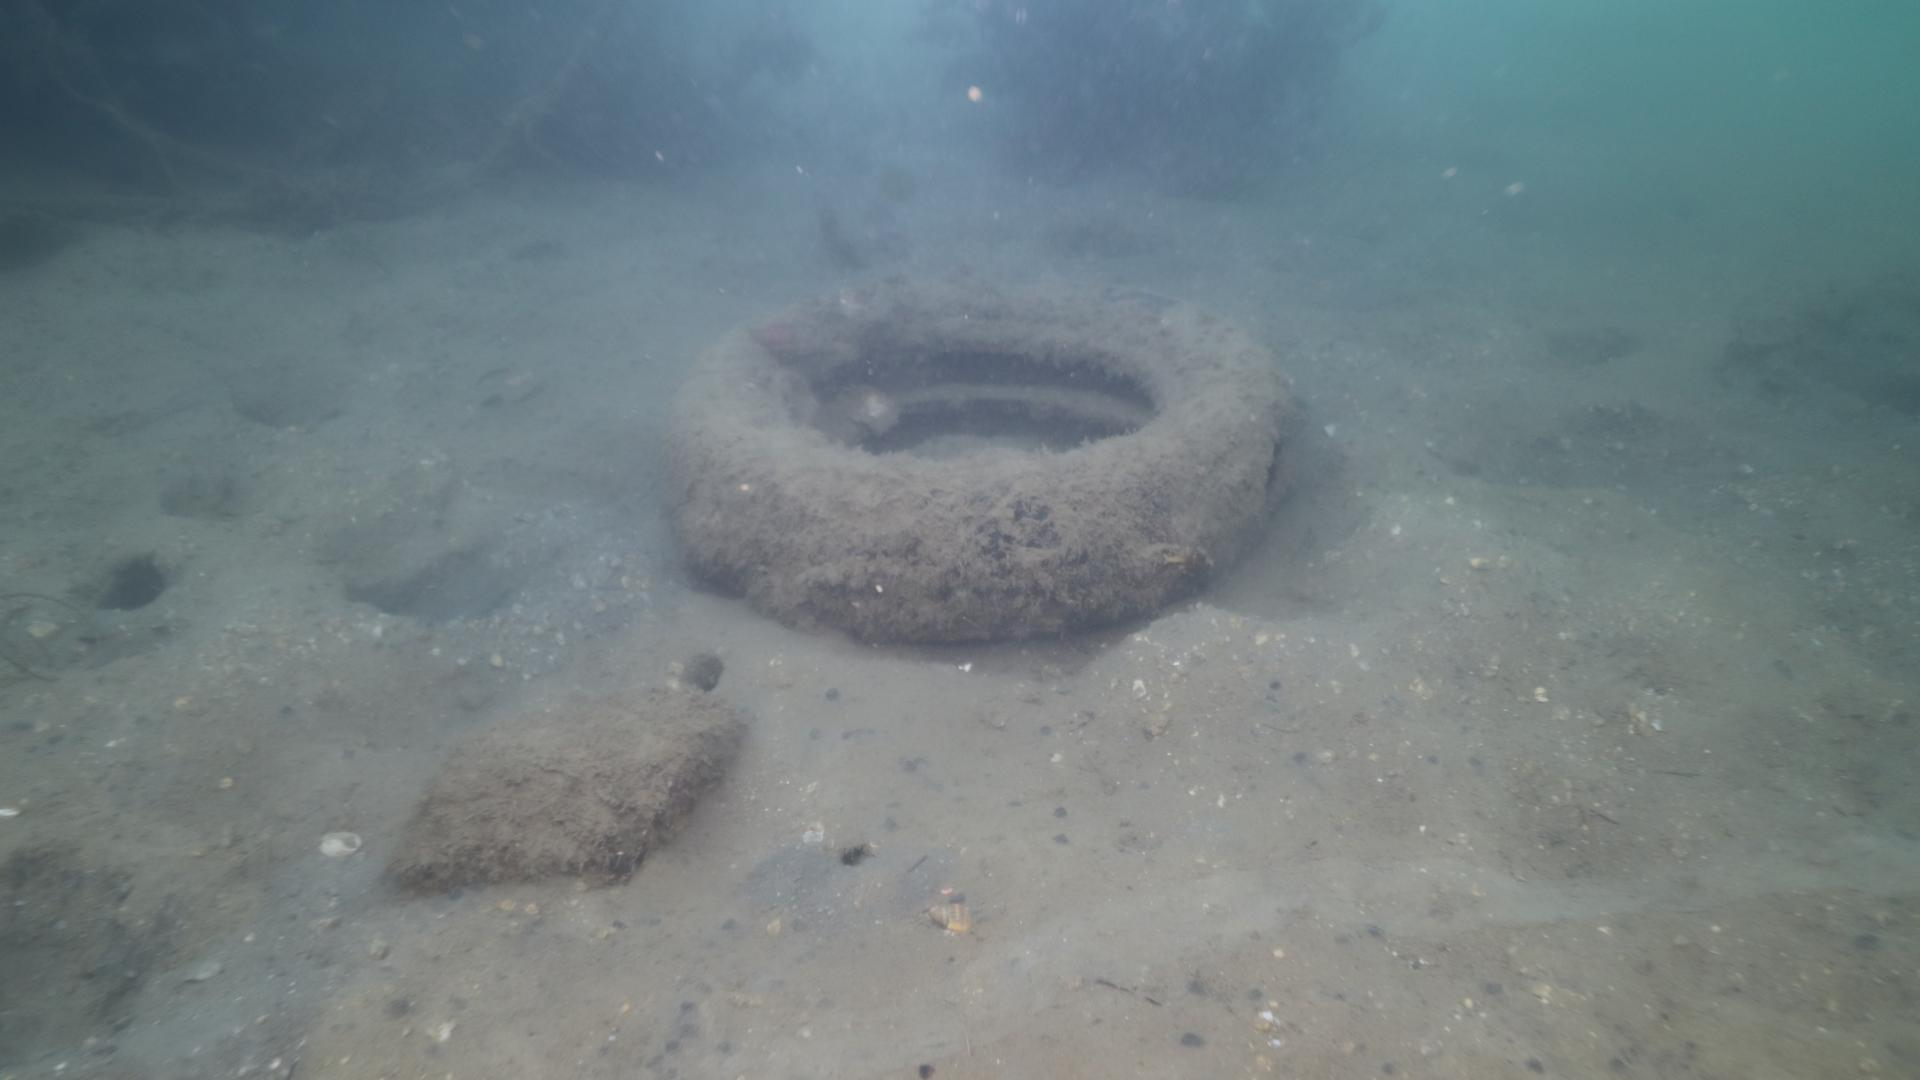tire: (670, 274, 1292, 640)
